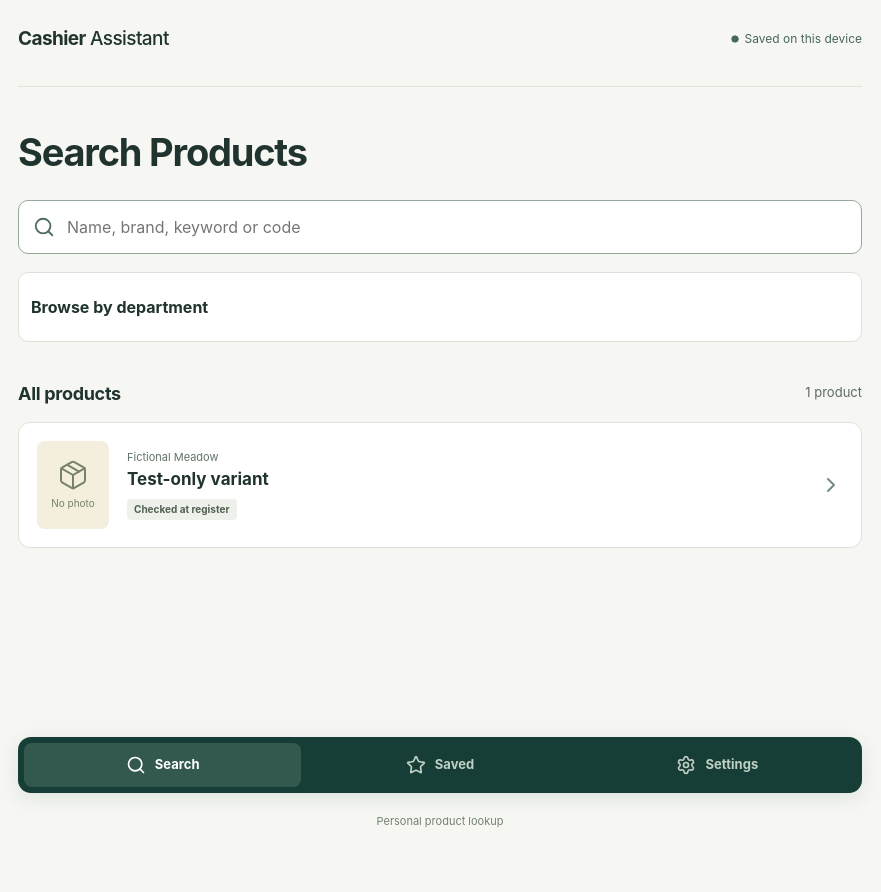
Test: retrieves a verified code from local search and distinguishes a packaging-only alternative
Expected: the message reads "1 product", [805,383,862,403]
In the search field: (456, 227) [65,201,847,253], type "00123"
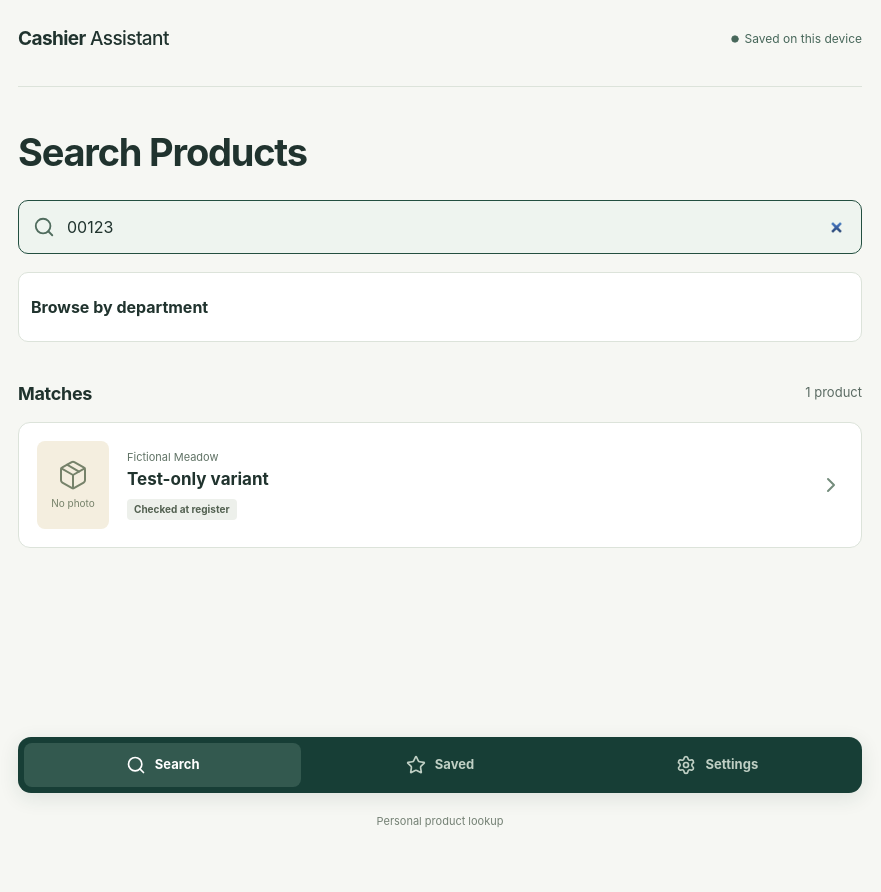
Click the button "Test-only variant": (73, 485) [18,422,862,548]
(page scrolled)
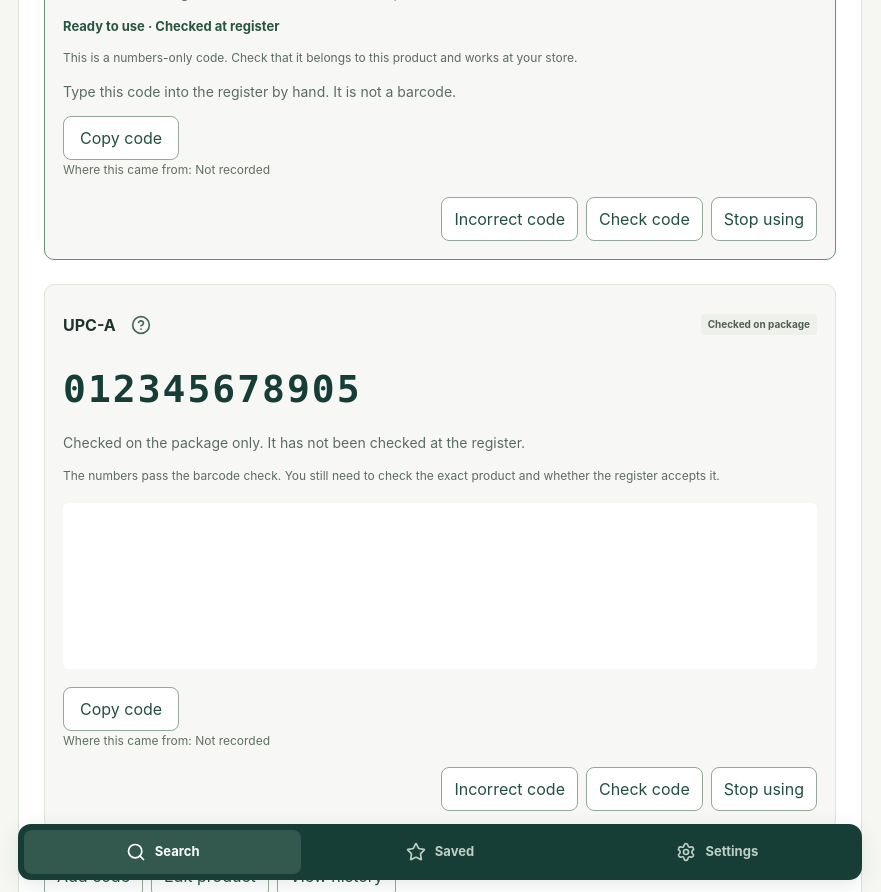
Now the text "Ready to use · Checked at register" is shown, box [63,18,280,34]
Now the text "It has not been checked at the register" is shown, box [63,434,525,451]
